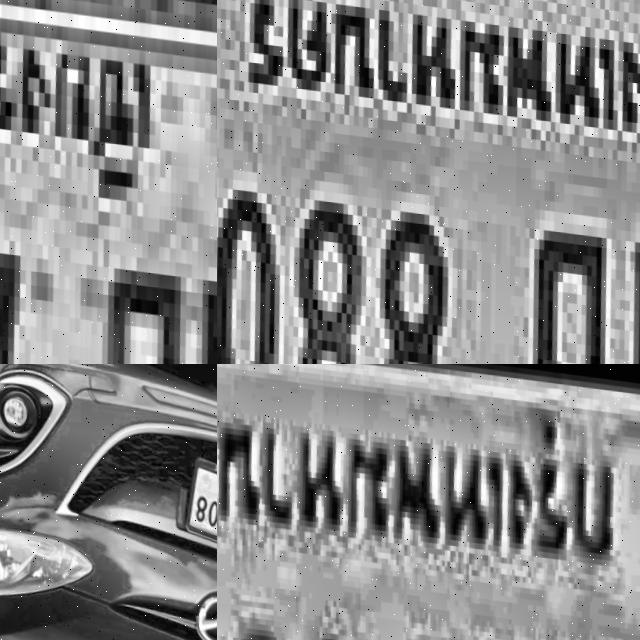license-plate: (217, 0, 640, 364), (217, 364, 640, 640), (0, 0, 217, 364), (166, 446, 217, 572)
